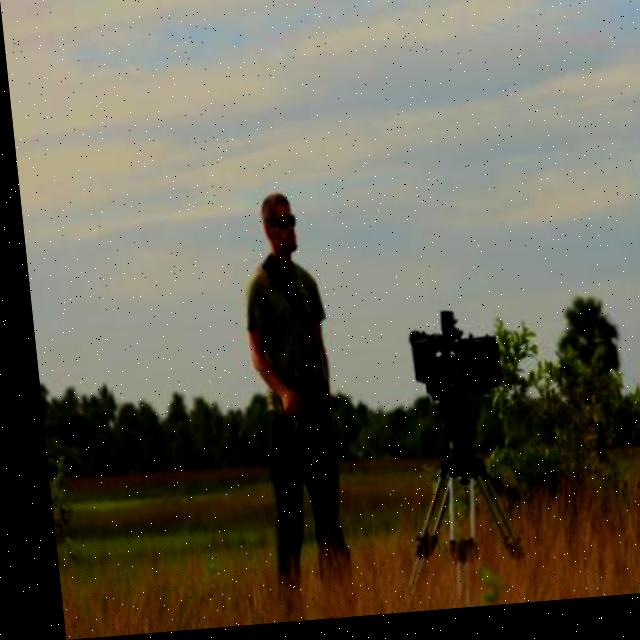cigarette: (283, 418, 293, 436)
